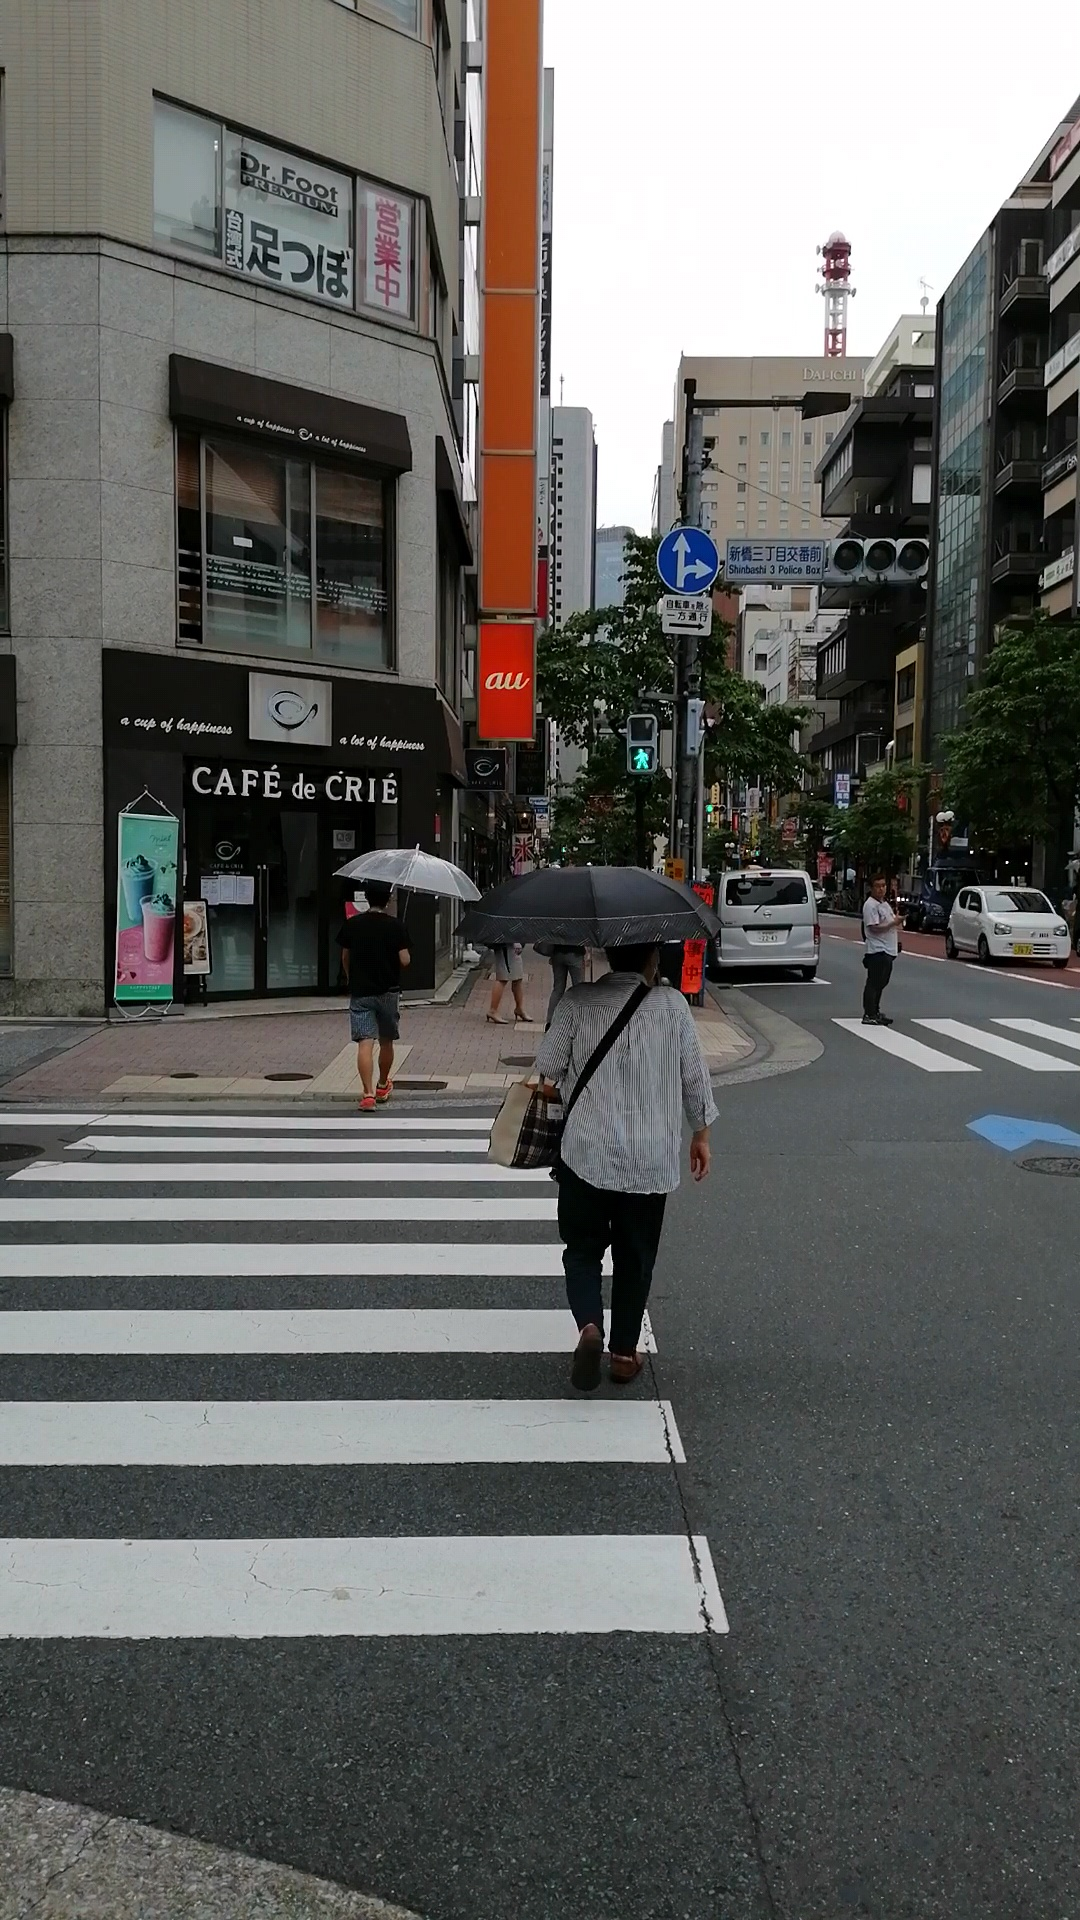green: (624, 711, 658, 774)
